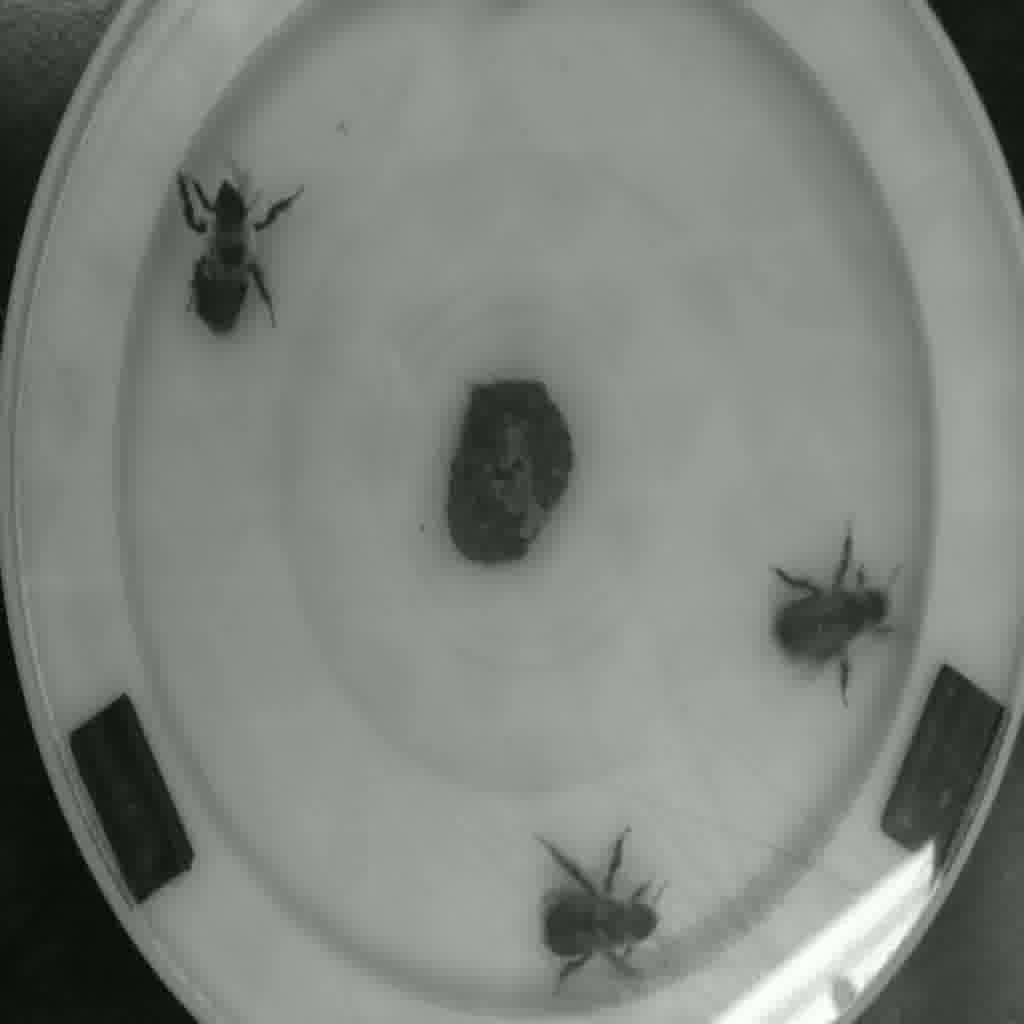bee: (154, 144, 322, 340), (524, 824, 692, 1000), (763, 536, 903, 682)
